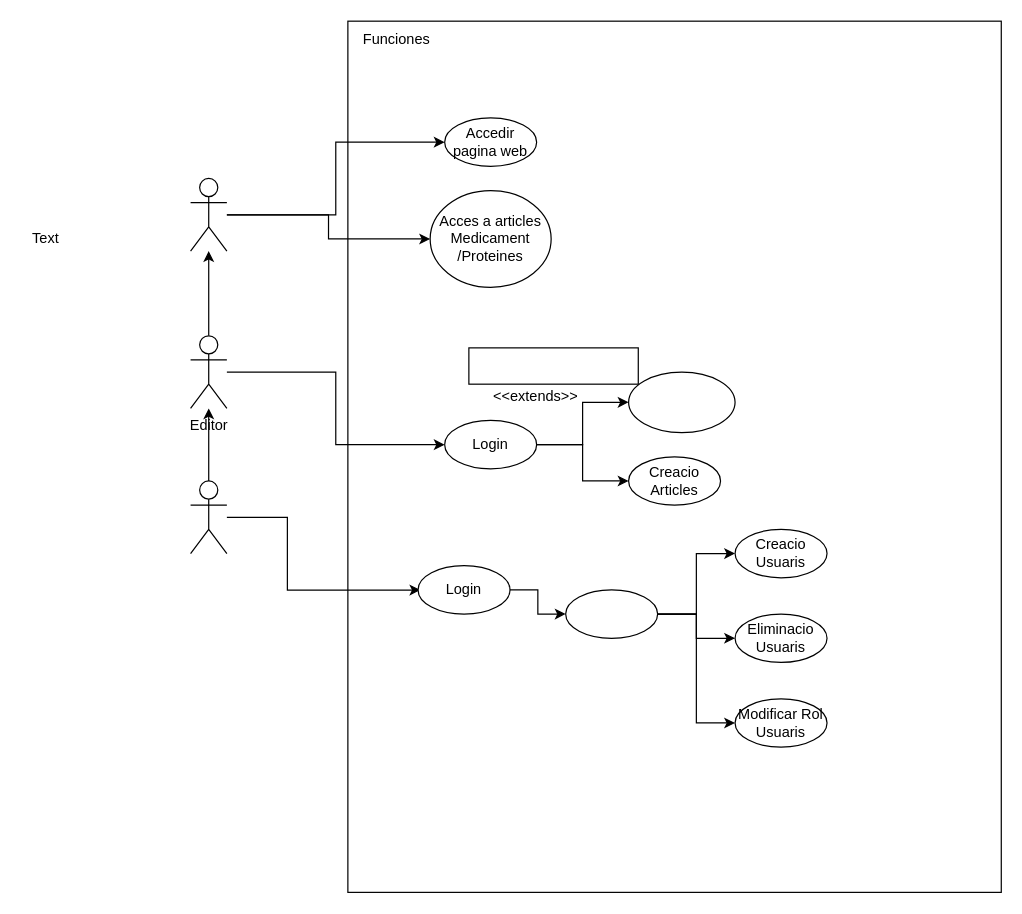
Image size: 1022x914. Some labels were removed from this diagram. The centre of each missing label's shape, as x and y in pixels:
Administrado: the point at 208,517
Gestio Usuaris: the point at 611,613
Modificar/Borrar articles: the point at 681,402
NoLogin: the point at 208,214
Rule: Si son creats per ell: the point at 553,365
